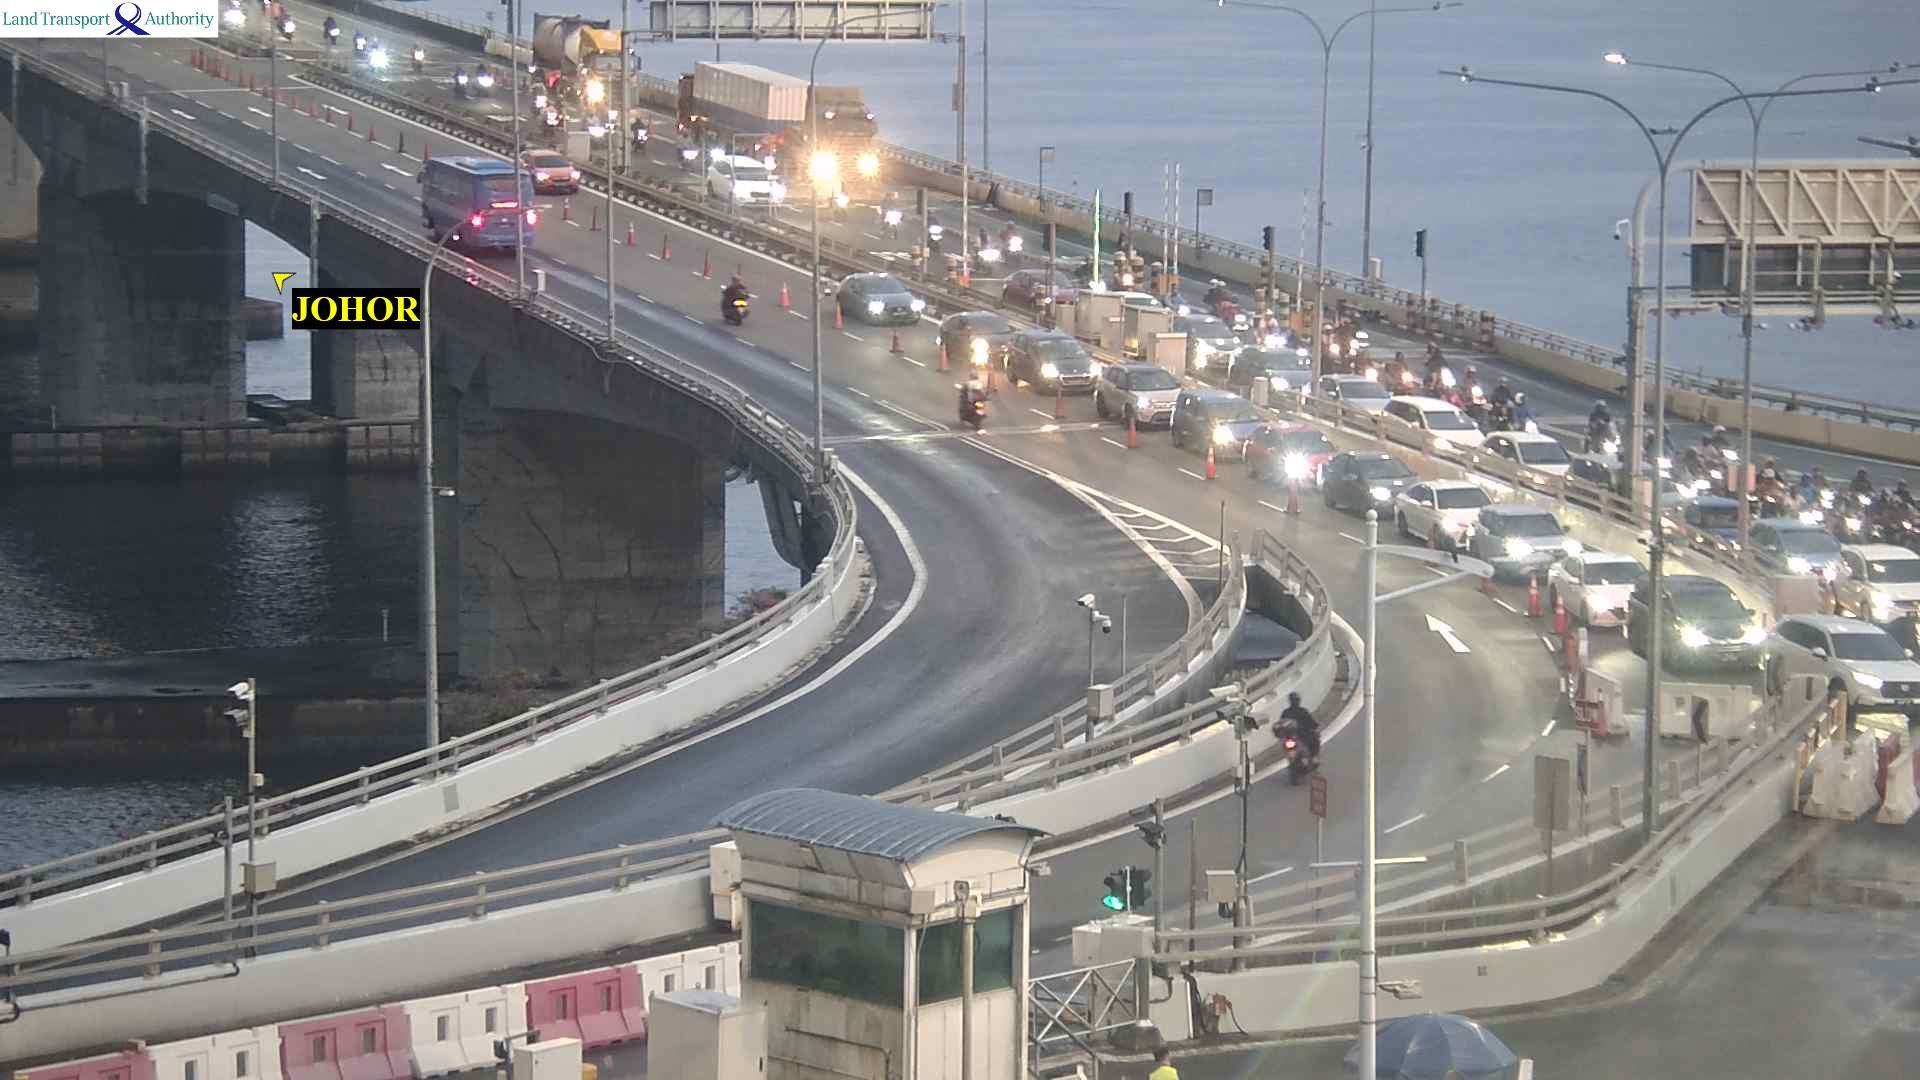vehicle-secondlink-johor: (423, 154, 534, 253), (1276, 685, 1324, 782), (721, 272, 750, 325), (956, 369, 983, 424)
vehicle-secondlink-singapore: (682, 65, 879, 183), (1777, 613, 1917, 702), (1638, 585, 1768, 658), (1835, 544, 1920, 620), (1554, 557, 1655, 615), (1388, 390, 1474, 455), (1169, 390, 1263, 448), (1478, 515, 1578, 569), (1011, 333, 1102, 389), (1400, 478, 1485, 537), (1248, 422, 1338, 477), (835, 263, 912, 327), (1480, 425, 1568, 479), (1749, 524, 1835, 577), (1093, 368, 1182, 412), (1318, 365, 1386, 422), (1325, 457, 1407, 504), (1175, 307, 1239, 367), (717, 157, 779, 216), (940, 307, 1011, 357), (1007, 267, 1079, 315), (1235, 352, 1313, 392), (513, 151, 580, 192), (1673, 447, 1713, 496), (1585, 400, 1617, 447), (994, 215, 1024, 261), (874, 191, 902, 236), (1205, 279, 1240, 313), (1755, 462, 1784, 503), (970, 223, 994, 271), (925, 213, 943, 251), (632, 119, 650, 152), (829, 188, 848, 218), (369, 41, 386, 73), (277, 11, 293, 42), (449, 68, 467, 93), (409, 42, 424, 70), (475, 65, 490, 93), (325, 16, 339, 43), (355, 30, 363, 52)
